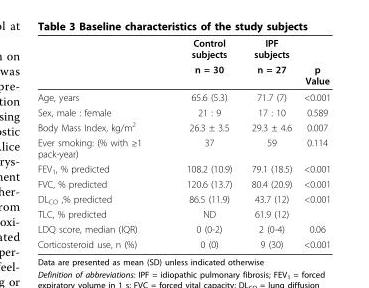table: (36, 36, 330, 249)
table column: (36, 36, 163, 249), (163, 36, 240, 249), (240, 36, 297, 249), (297, 36, 330, 249)
table column header: (36, 36, 330, 88)
table row: (36, 61, 330, 88), (36, 134, 330, 160), (36, 36, 330, 61), (36, 88, 330, 104), (36, 118, 330, 134), (36, 160, 330, 176), (36, 176, 330, 191), (36, 191, 330, 206), (36, 206, 330, 221), (36, 221, 330, 236), (36, 104, 330, 118), (36, 236, 330, 249)
table spanning cell: (163, 36, 240, 88), (240, 36, 297, 88), (297, 36, 330, 88)
